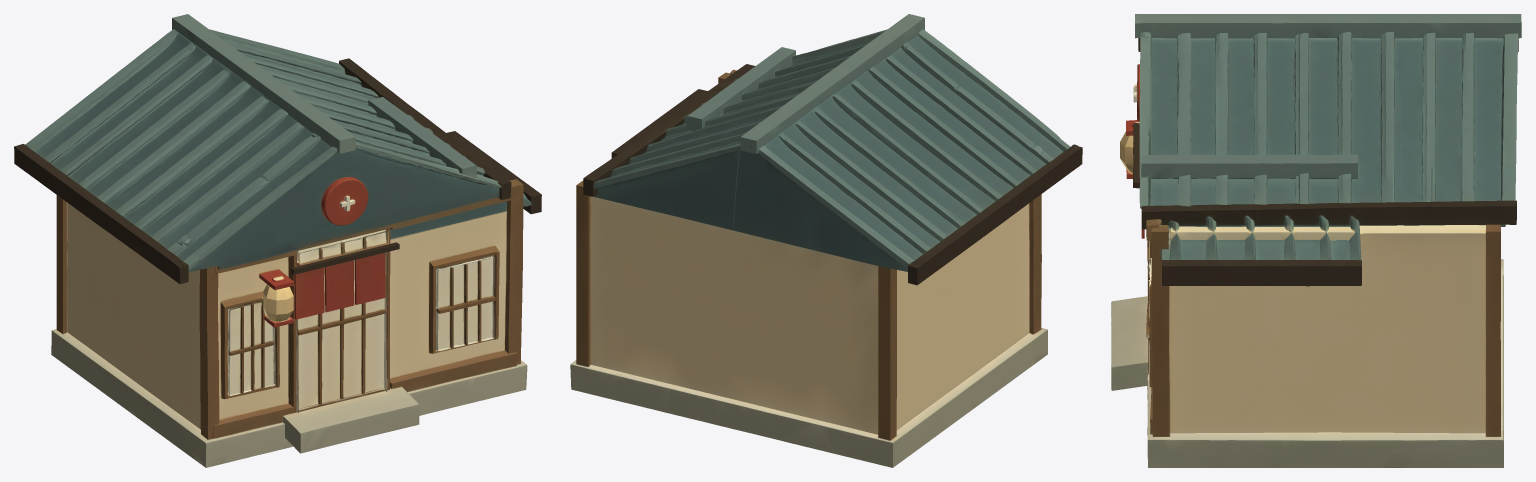
Rendered from source.glb.
3 renders of one model, left to right at view 1: azimuth 30°, elevation 25°; view 2: azimuth 150°, elevation 25°; view 3: azimuth 270°, elevation 25°, orthographic. The views are drawn at different scales.
Visible parts, largest first — view 1: model; view 2: model; view 3: model.
Boxes of the visible parts, box(x1,y1,x2,y2) form: model: box(14, 14, 541, 467); model: box(570, 14, 1082, 467); model: box(1111, 14, 1521, 467).
Size of the model in its own units: 1.9 by 1.46 by 1.57.
Materials: 1 (1 with a texture image).
